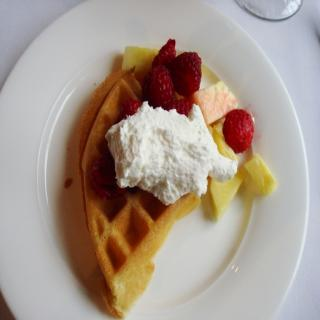Ice cream: (101, 82, 247, 214)
Waffle: (76, 66, 200, 320)
